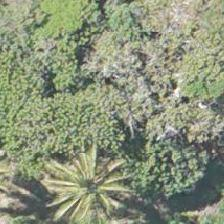Kelapa_Sawit: (40, 128, 130, 218)
